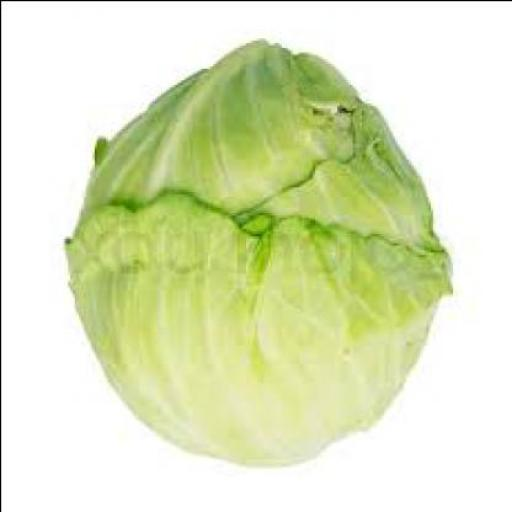biodegradable: (67, 44, 454, 470)
